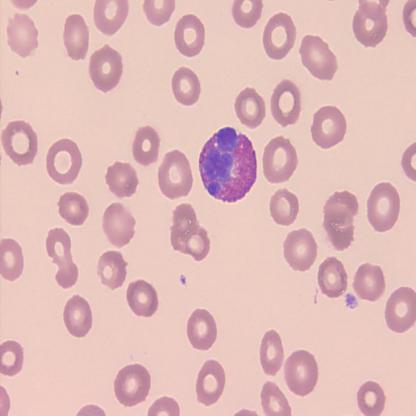Eosinophil: (197, 126, 261, 206)
